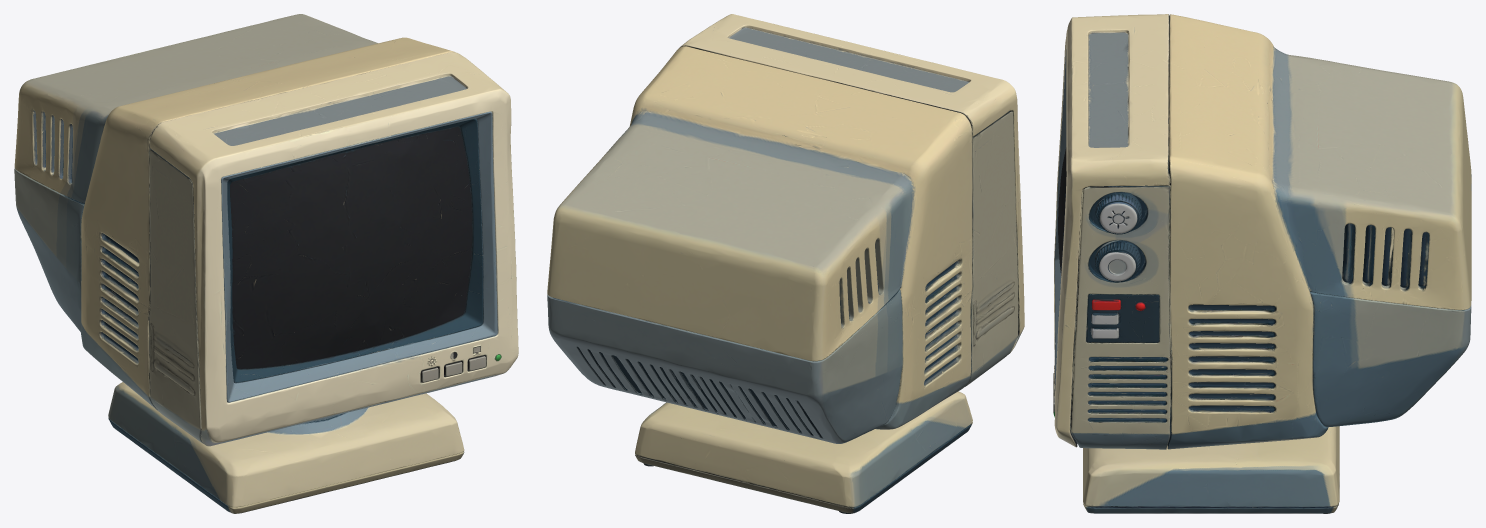
Rendered from Meshy_AI_Comic_CRT_Monitor_3D_1007092115_image-to-3d-texture-compressed.glb.
3 renders of one model, left to right at view 1: azimuth 30°, elevation 25°; view 2: azimuth 150°, elevation 25°; view 3: azimuth 270°, elevation 25°, orthographic. The views are drawn at different scales.
Size of the model in its own units: 1.72 by 1.88 by 1.9.
1 material, 1 textured.
